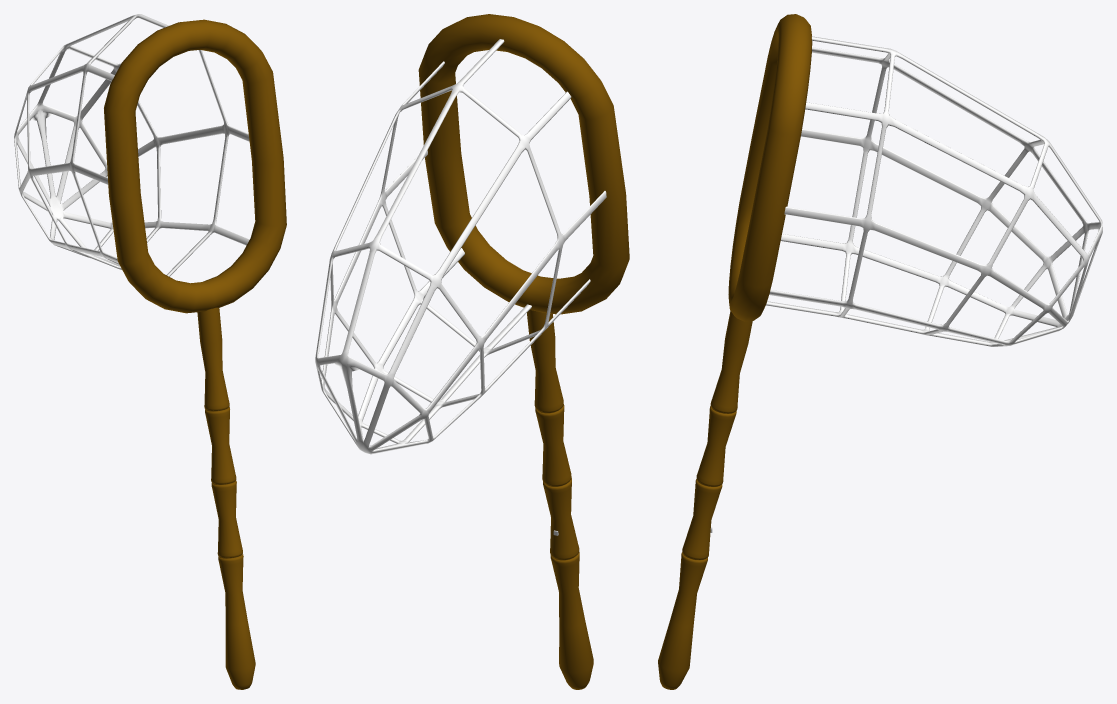
File: jellyfish_net.obj
3 views of the same model, side by side, from view 1: azimuth 30°, elevation 25°; view 2: azimuth 150°, elevation 25°; view 3: azimuth 270°, elevation 25° (orthographic). The views are drawn at different scales.
Visible parts, largest first — view 1: Jelly_Fish_Net_02_-_Default_0, Jelly_Fish_Net_03_-_Default_0; view 2: Jelly_Fish_Net_02_-_Default_0, Jelly_Fish_Net_03_-_Default_0; view 3: Jelly_Fish_Net_02_-_Default_0, Jelly_Fish_Net_03_-_Default_0.
Part boxes in pixels (x1,y1,x2,y2): Jelly_Fish_Net_02_-_Default_0: (104, 19, 286, 689); Jelly_Fish_Net_03_-_Default_0: (14, 14, 249, 276); Jelly_Fish_Net_02_-_Default_0: (418, 14, 629, 689); Jelly_Fish_Net_03_-_Default_0: (315, 39, 606, 454); Jelly_Fish_Net_02_-_Default_0: (658, 14, 812, 689); Jelly_Fish_Net_03_-_Default_0: (766, 36, 1102, 346).
Bounding box in the file's own units: 104 × 363 × 220.
